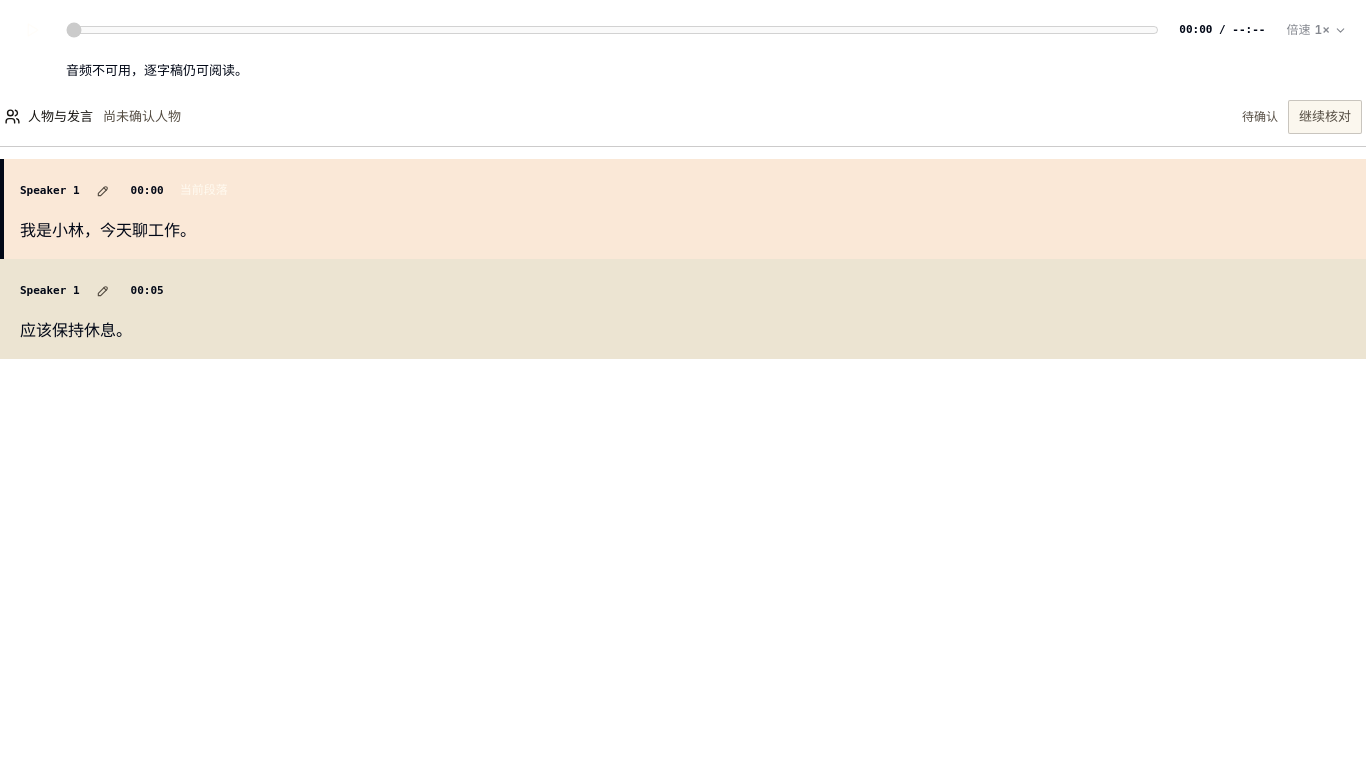
Test case: submits only the selected fragments and preserves edits after a revision conflict
Click the button "继续核对" at (1325, 117), box [1288,100,1362,134]
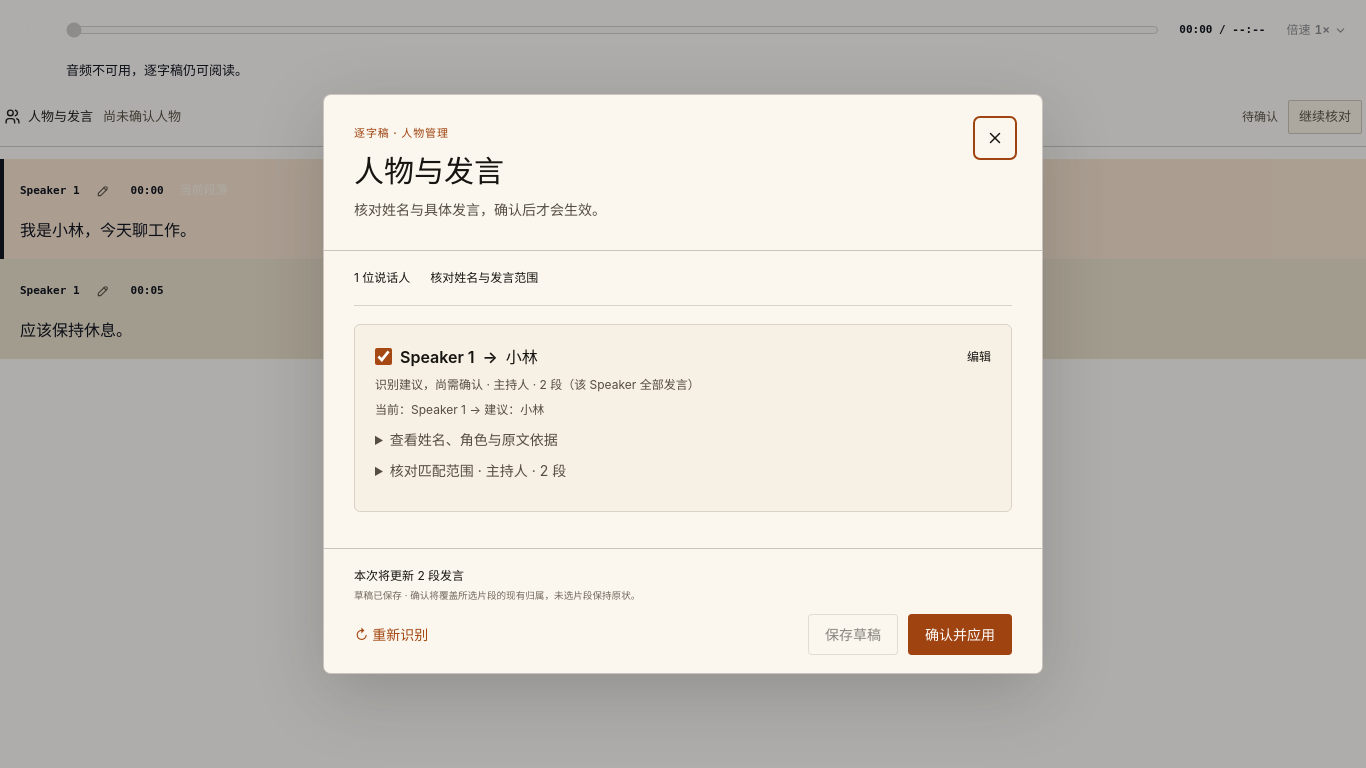
Click the heading "核对匹配范围 · 主持人 · 2 段" at (478, 471), box [390,462,566,479]
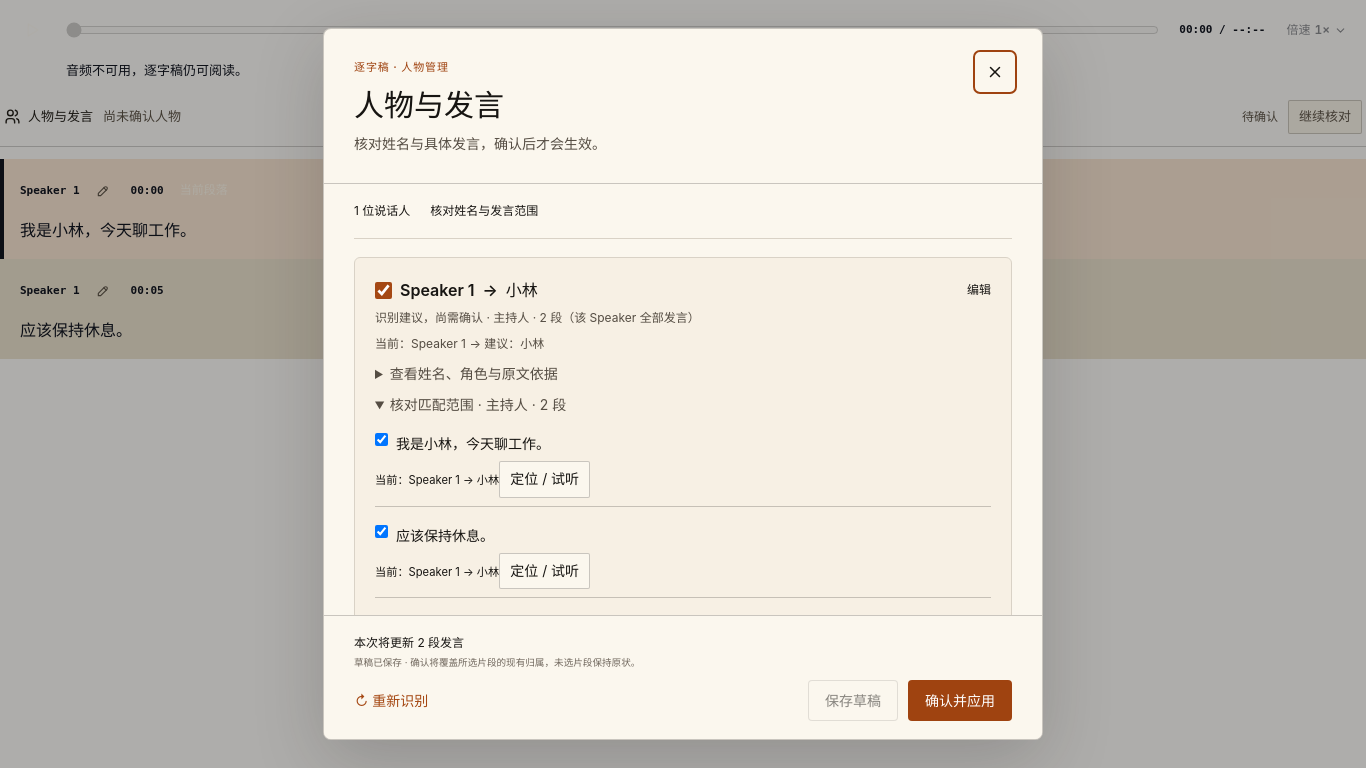
Click the checkbox labelled "应该保持休息。" at (382, 531), box [375,524,388,538]
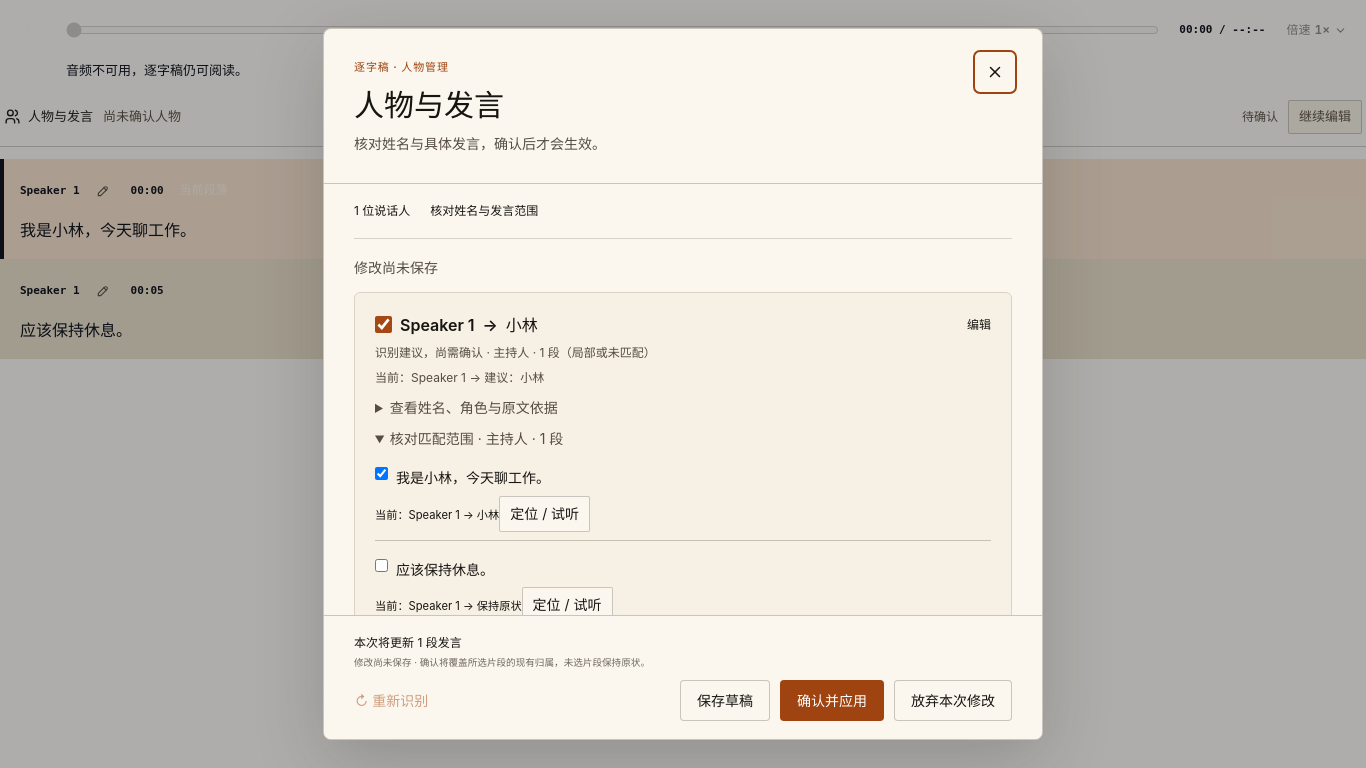
Expected: the text "本次将更新 1 段发言" is shown, [354,635,650,668]
Click the button "确认并应用" at (832, 700), box [780,680,884,721]
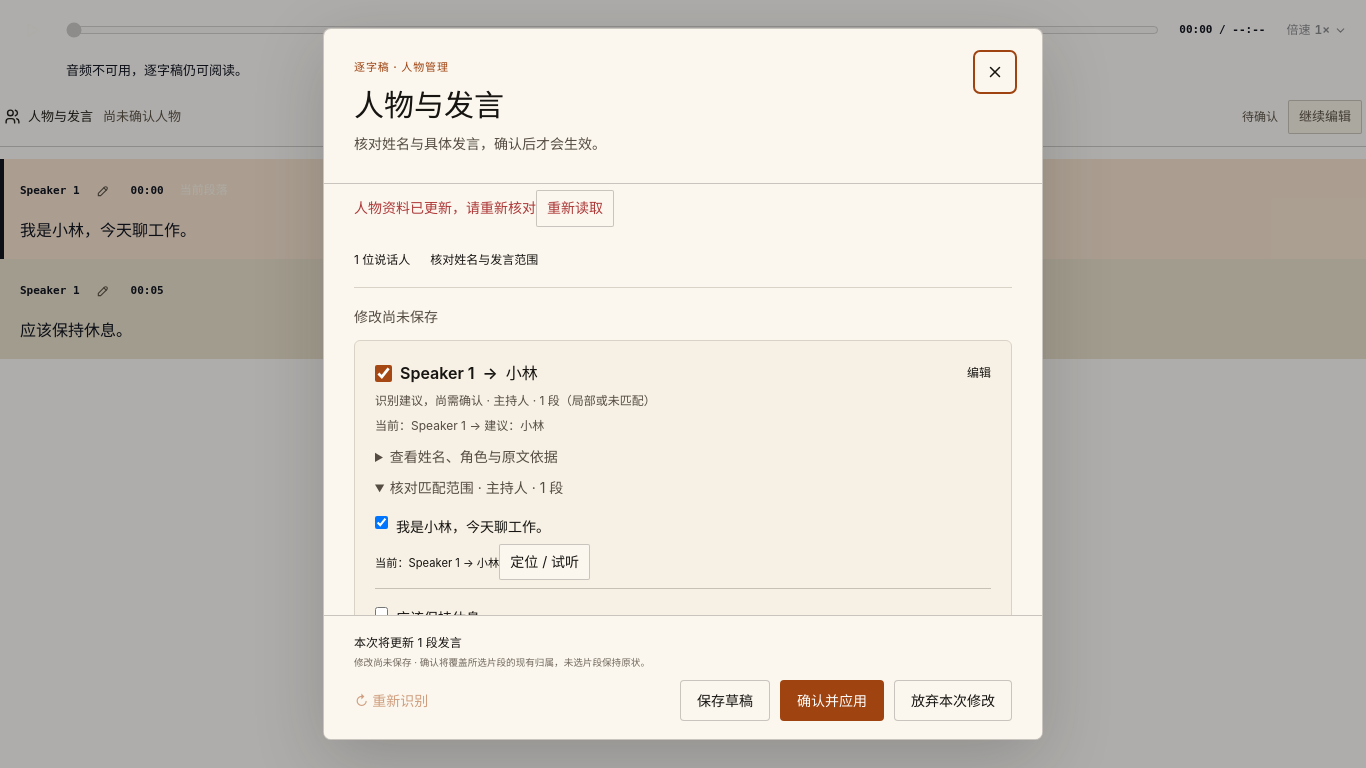
Expected: the text "人物资料已更新，请重新核对" is shown, [354,199,536,216]
Click the button "重新读取" at (575, 209), box [536,190,614,227]
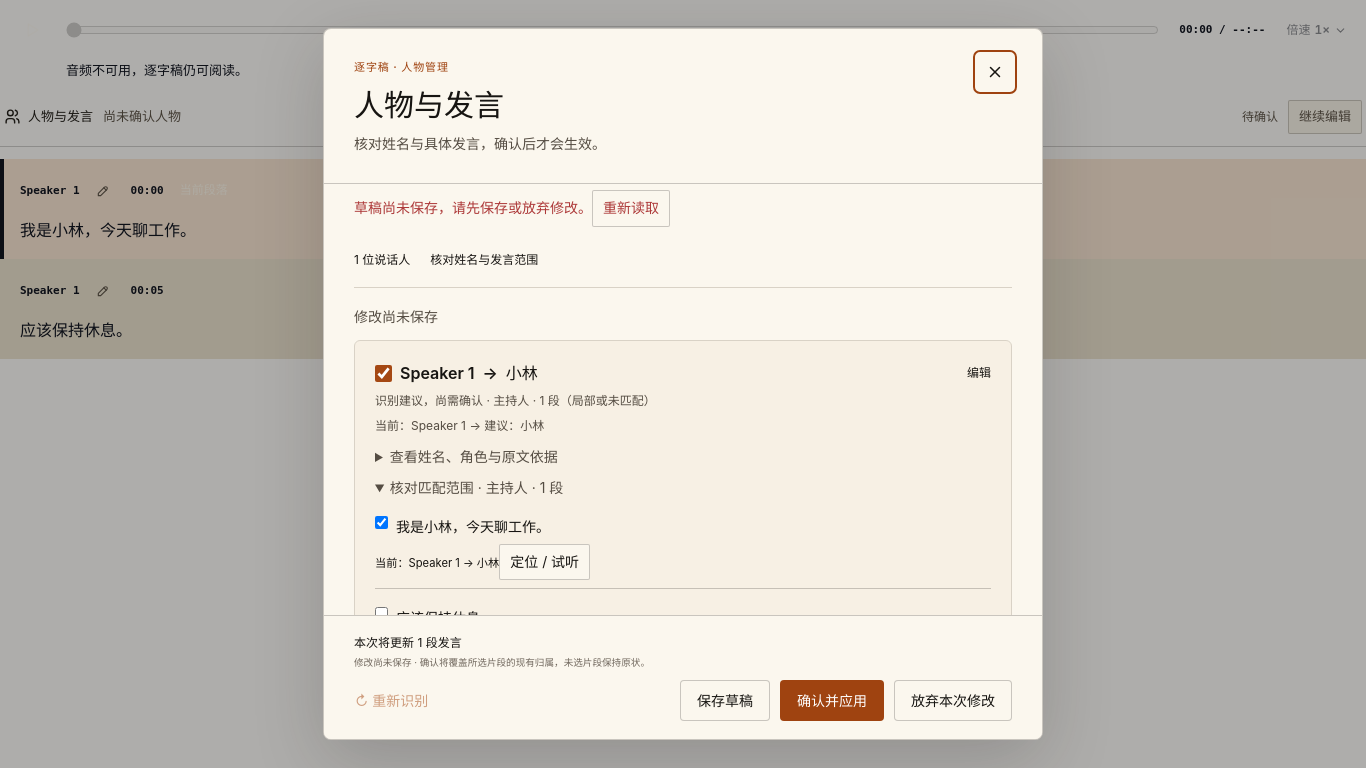
Expected: the text "本次将更新 1 段发言" is shown, [354,635,650,668]
Expected: the text "草稿尚未保存，请先保存或放弃修改。" is shown, [354,199,592,216]
